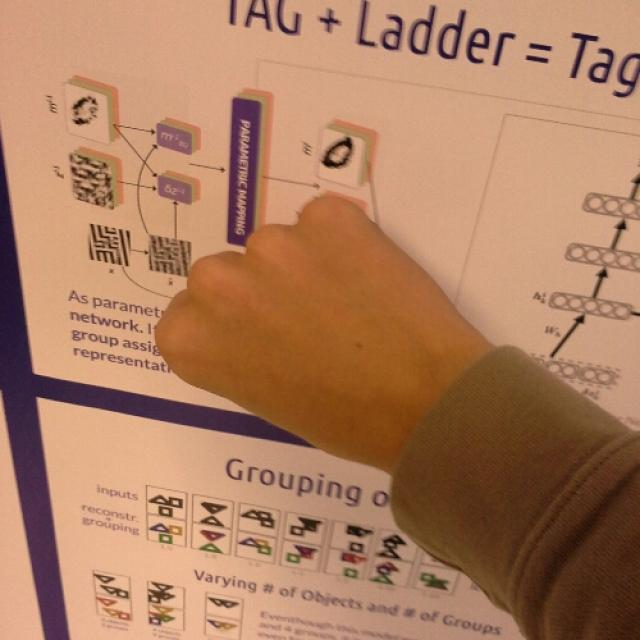rock: (152, 199, 452, 458)
